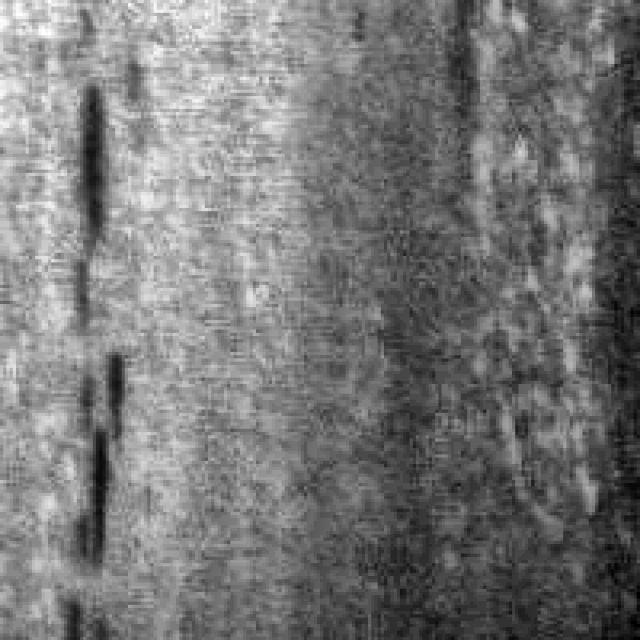Patches: (61, 340, 141, 570), (60, 70, 118, 327)
